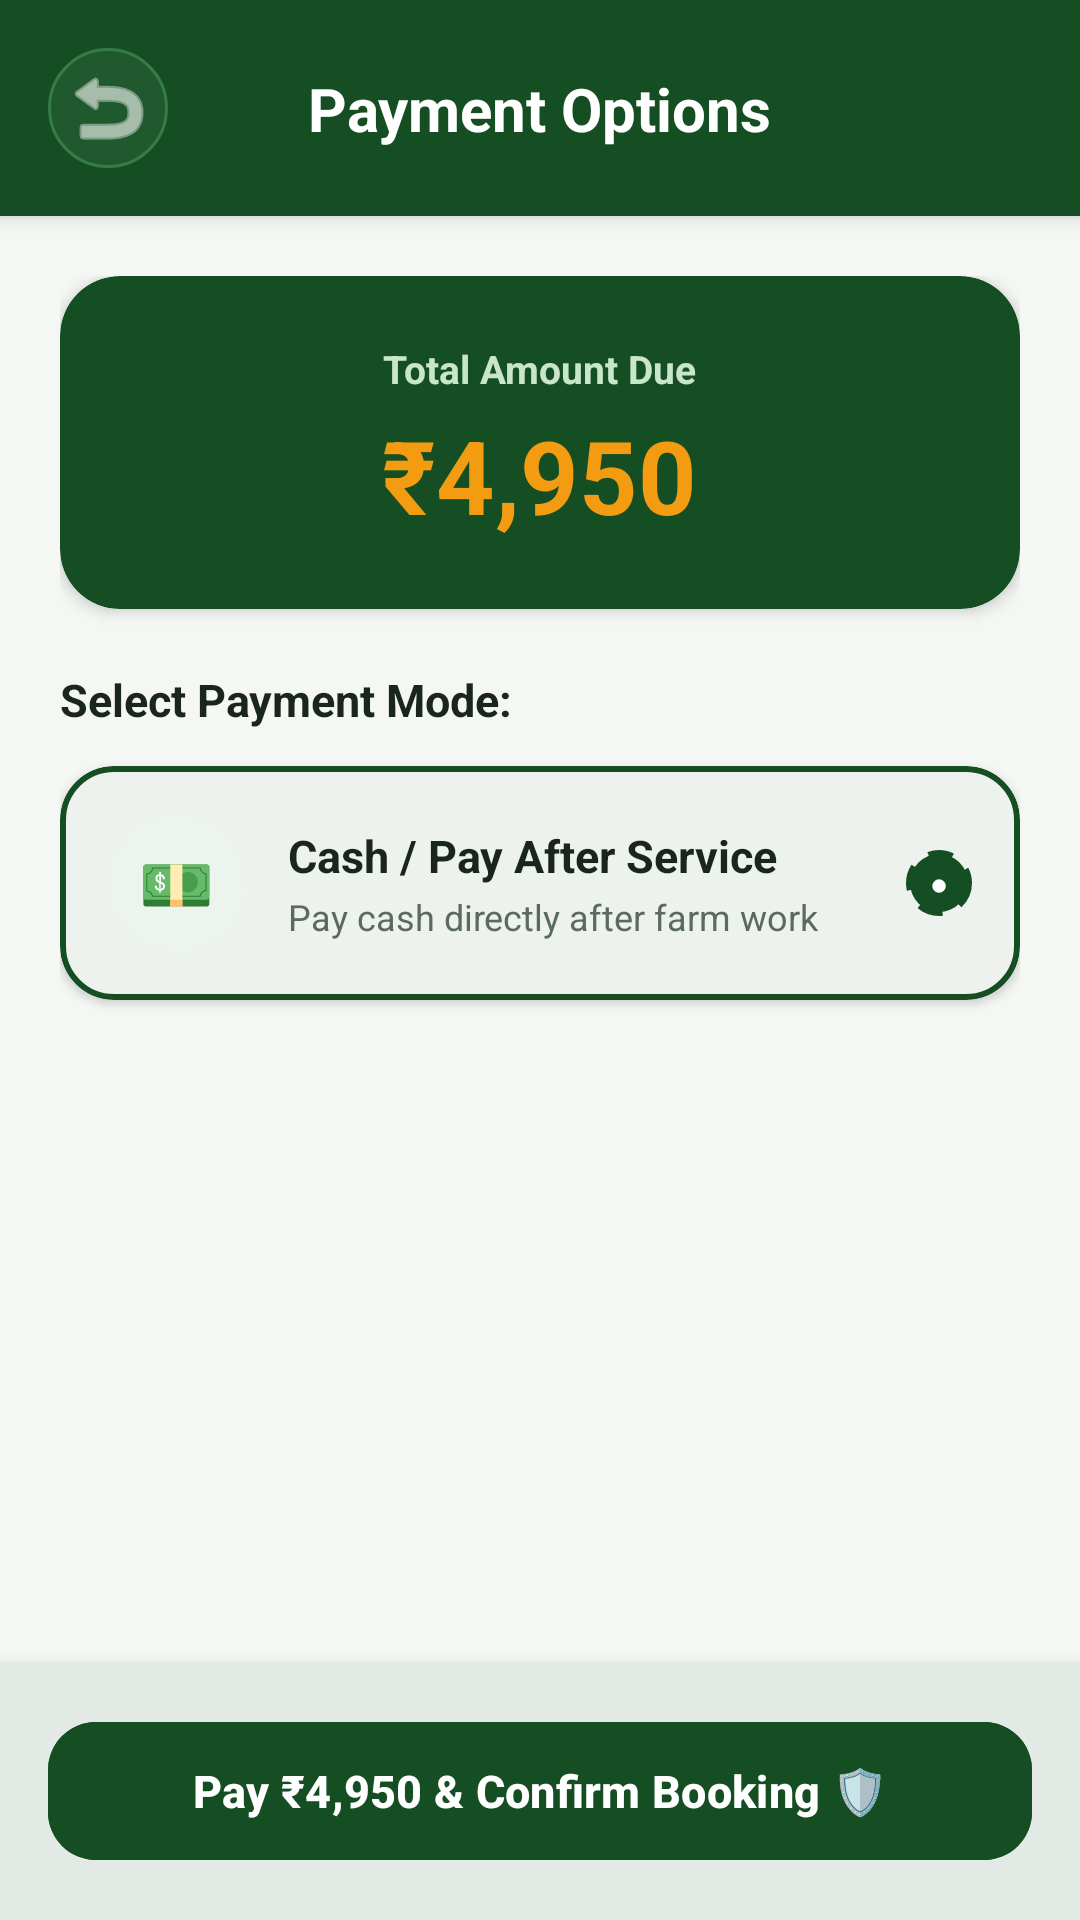

Named icons in this screenshot (1080×1920) and their bounding boxes, [x1=x1, y1=y1, x2=x2, y2=y2]:
revert: [x1=48, y1=48, x2=168, y2=168]
